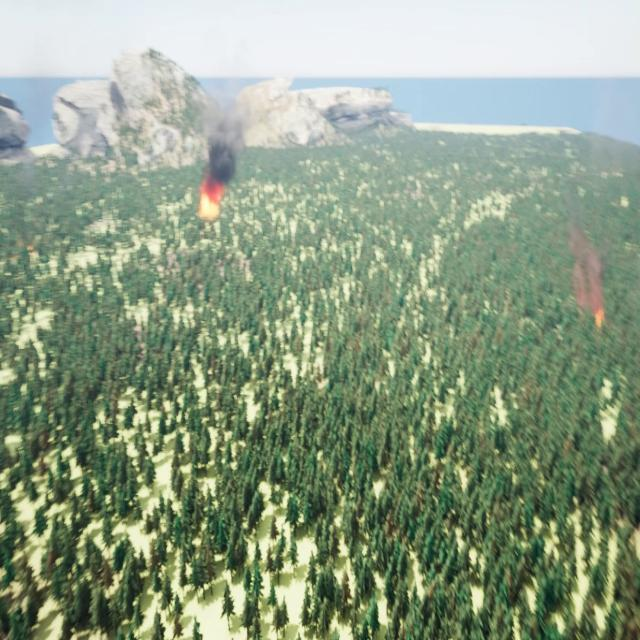fire: (196, 185, 224, 219)
smoke: (566, 221, 604, 322), (205, 104, 243, 180)
